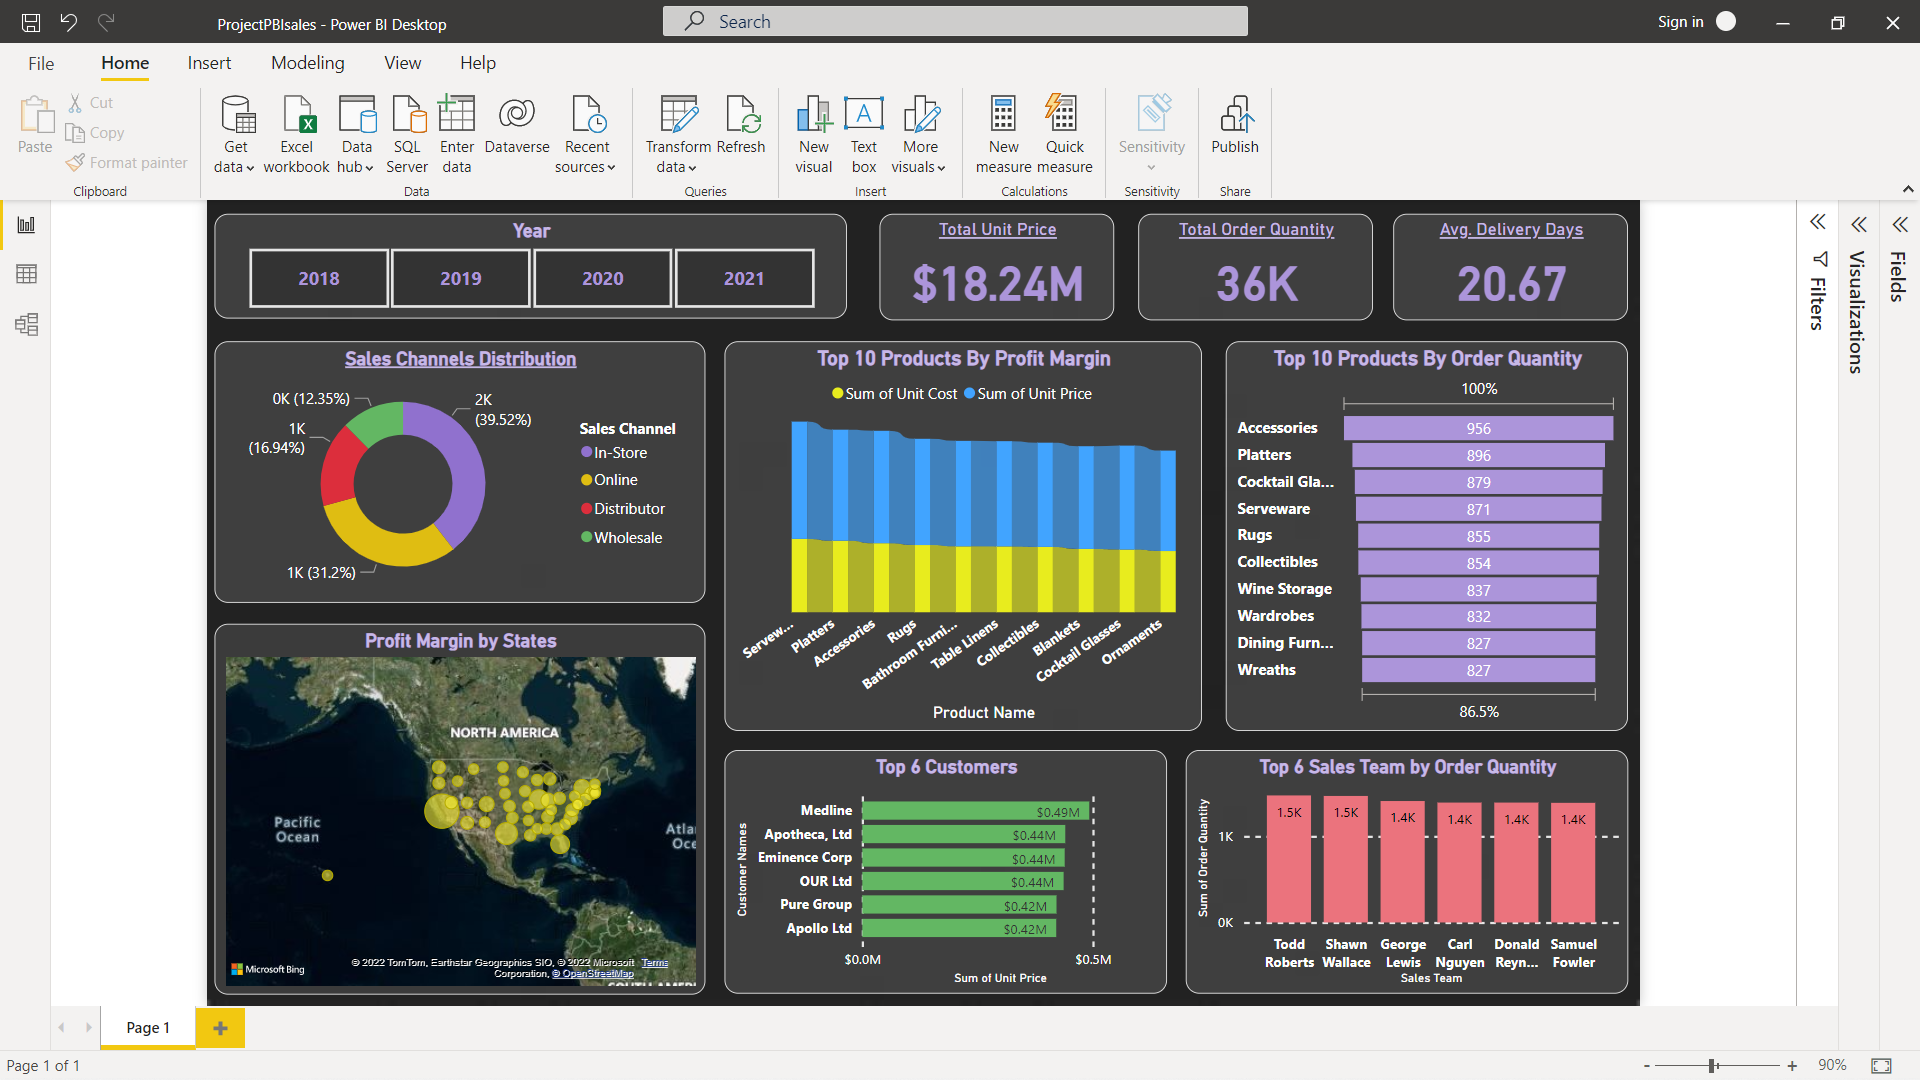

What the dashboard file says about the page in this screenshot:
{"tool":"powerbi","page":{"name":"Page 1","canvas":[1280,720],"ordinal":0},"visuals":[{"type":"card","title":"Total Unit Price","fields":{"Values":["Sales.Unit Price"]},"box":[600,11.9,209.5,95.2],"z":0},{"type":"slicer","title":"Year","fields":{"Values":["Sales.Year"]},"box":[6.7,12.3,564.8,93.8],"z":1000},{"type":"barChart","title":"Top 6 Customers","fields":{"Category":["Customers.Customer Names"],"Y":["Sales.Unit Price"]},"box":[461.9,491.7,395.2,217.9],"z":2000},{"type":"card","title":"Avg. Delivery Days","fields":{"Values":["Sales.Delivery Days"]},"box":[1059.5,11.9,209.5,95.2],"z":3000},{"type":"columnChart","title":"Top 6 Sales Team by Order Quantity","fields":{"Y":["Sales.Order Quantity"],"Category":["Sales_Team.Sales Team"]},"box":[873.8,491.7,395.2,217.9],"z":4000},{"type":"map","title":"Profit Margin by States","fields":{"Category":["Locations.State"],"Size":["Sales.Profit Margin"]},"box":[7.1,378.6,438.1,331],"z":5000},{"type":"donutChart","title":"Sales Channels Distribution","fields":{"Category":["Sales.Sales Channel"],"Y":["Sales.Order Quantity"]},"box":[7.1,126.2,438.1,233.3],"z":6000},{"type":"ribbonChart","title":"Top 10 Products By Profit Margin","fields":{"Category":["Products.Product Name"],"Y":["Sales.Unit Cost","Sales.Unit Price"]},"box":[461.9,126.2,426.2,347.6],"z":7000},{"type":"funnel","title":"Top 10 Products By Order Quantity","fields":{"Category":["Products.Product Name"],"Y":["Sales.Order Quantity"]},"box":[909.5,126.2,359.5,347.6],"z":8000},{"type":"card","title":"Total Order Quantity","fields":{"Values":["Sales.Order Quantity"]},"box":[832.1,11.9,209.5,95.2],"z":9000}]}

Visuals, with their boxes on the page's 1280x720 design canvas (x1, y1, x2, y2). These are canvas units, not pixel positions in the 1920x1080 screenshot, which may show the page scaled, cropped or inside an application window:
"Total Unit Price" card: 600/12/810/107
"Year" slicer: 7/12/572/106
"Top 6 Customers" barChart: 462/492/857/710
"Avg. Delivery Days" card: 1060/12/1269/107
"Top 6 Sales Team by Order Quantity" columnChart: 874/492/1269/710
"Profit Margin by States" map: 7/379/445/710
"Sales Channels Distribution" donutChart: 7/126/445/360
"Top 10 Products By Profit Margin" ribbonChart: 462/126/888/474
"Top 10 Products By Order Quantity" funnel: 910/126/1269/474
"Total Order Quantity" card: 832/12/1042/107
